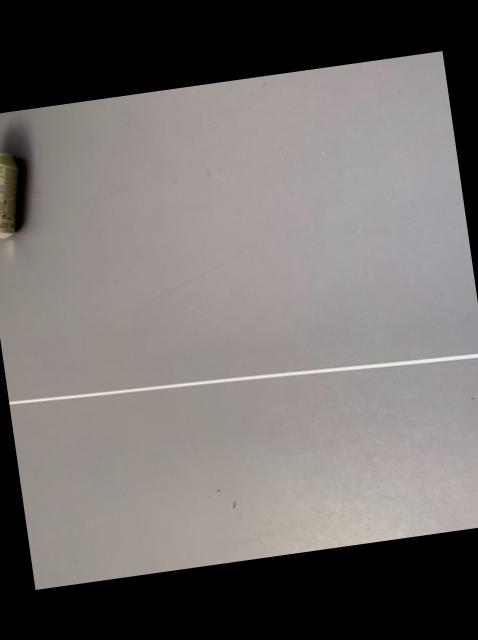metal: (0, 153, 16, 238)
